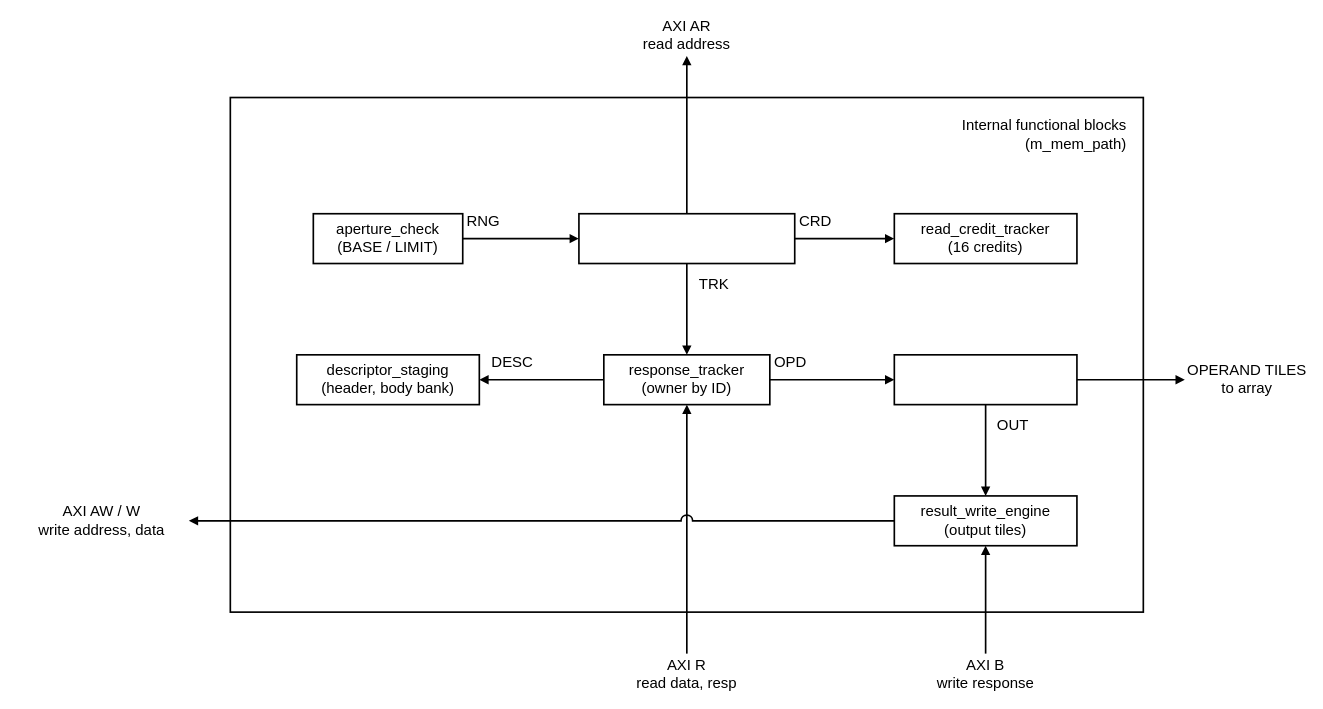
The diagram is 1323 pixels wide and 709 high, and some of its shapes have lost their labels. The centre of each missing label's shape, as x and y in pixels:
"axi_read_arbiter (active / descriptor)" goes at point 686,238.
"operand_sram_banks (banked SRAM)" goes at point 985,379.
